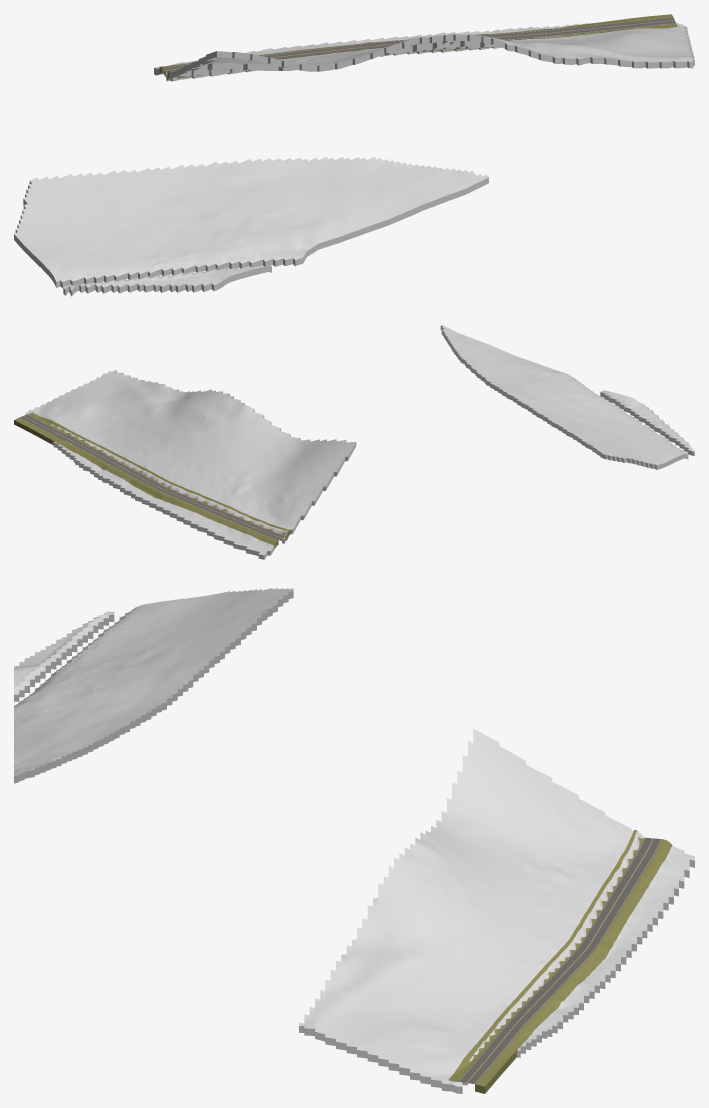
The model's file is conz_66.glb.
3 renders of one model, top to bottom at view 1: azimuth 30°, elevation 25°; view 2: azimuth 150°, elevation 25°; view 3: azimuth 270°, elevation 25°, orthographic. The views are drawn at different scales.
Parts seen in each view (by area): view 1: terrain66, road66, verge66L, verge66R; view 2: terrain66, verge66L, road66, verge66R; view 3: terrain66, road66, verge66L, verge66R.
Boxes of the visible parts, bbox=[...] form: terrain66: bbox=[14, 23, 694, 296]; road66: bbox=[162, 17, 675, 73]; verge66L: bbox=[159, 14, 672, 73]; verge66R: bbox=[167, 23, 677, 79]; terrain66: bbox=[25, 325, 694, 559]; verge66L: bbox=[14, 418, 278, 549]; road66: bbox=[19, 414, 285, 539]; verge66R: bbox=[28, 412, 290, 540]; terrain66: bbox=[14, 588, 694, 1093]; road66: bbox=[458, 837, 661, 1084]; verge66L: bbox=[475, 839, 672, 1093]; verge66R: bbox=[448, 830, 643, 1083].
Size of the model in its own units: 396 by 50.11 by 258.
